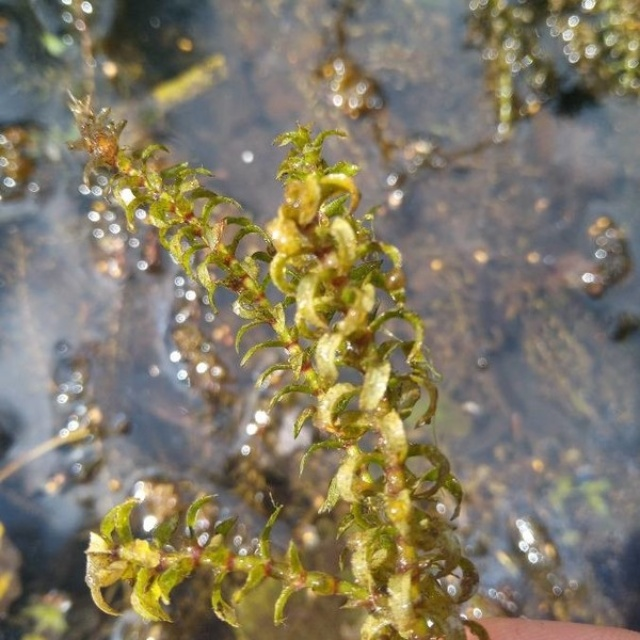obstacle: (58, 75, 460, 639)
